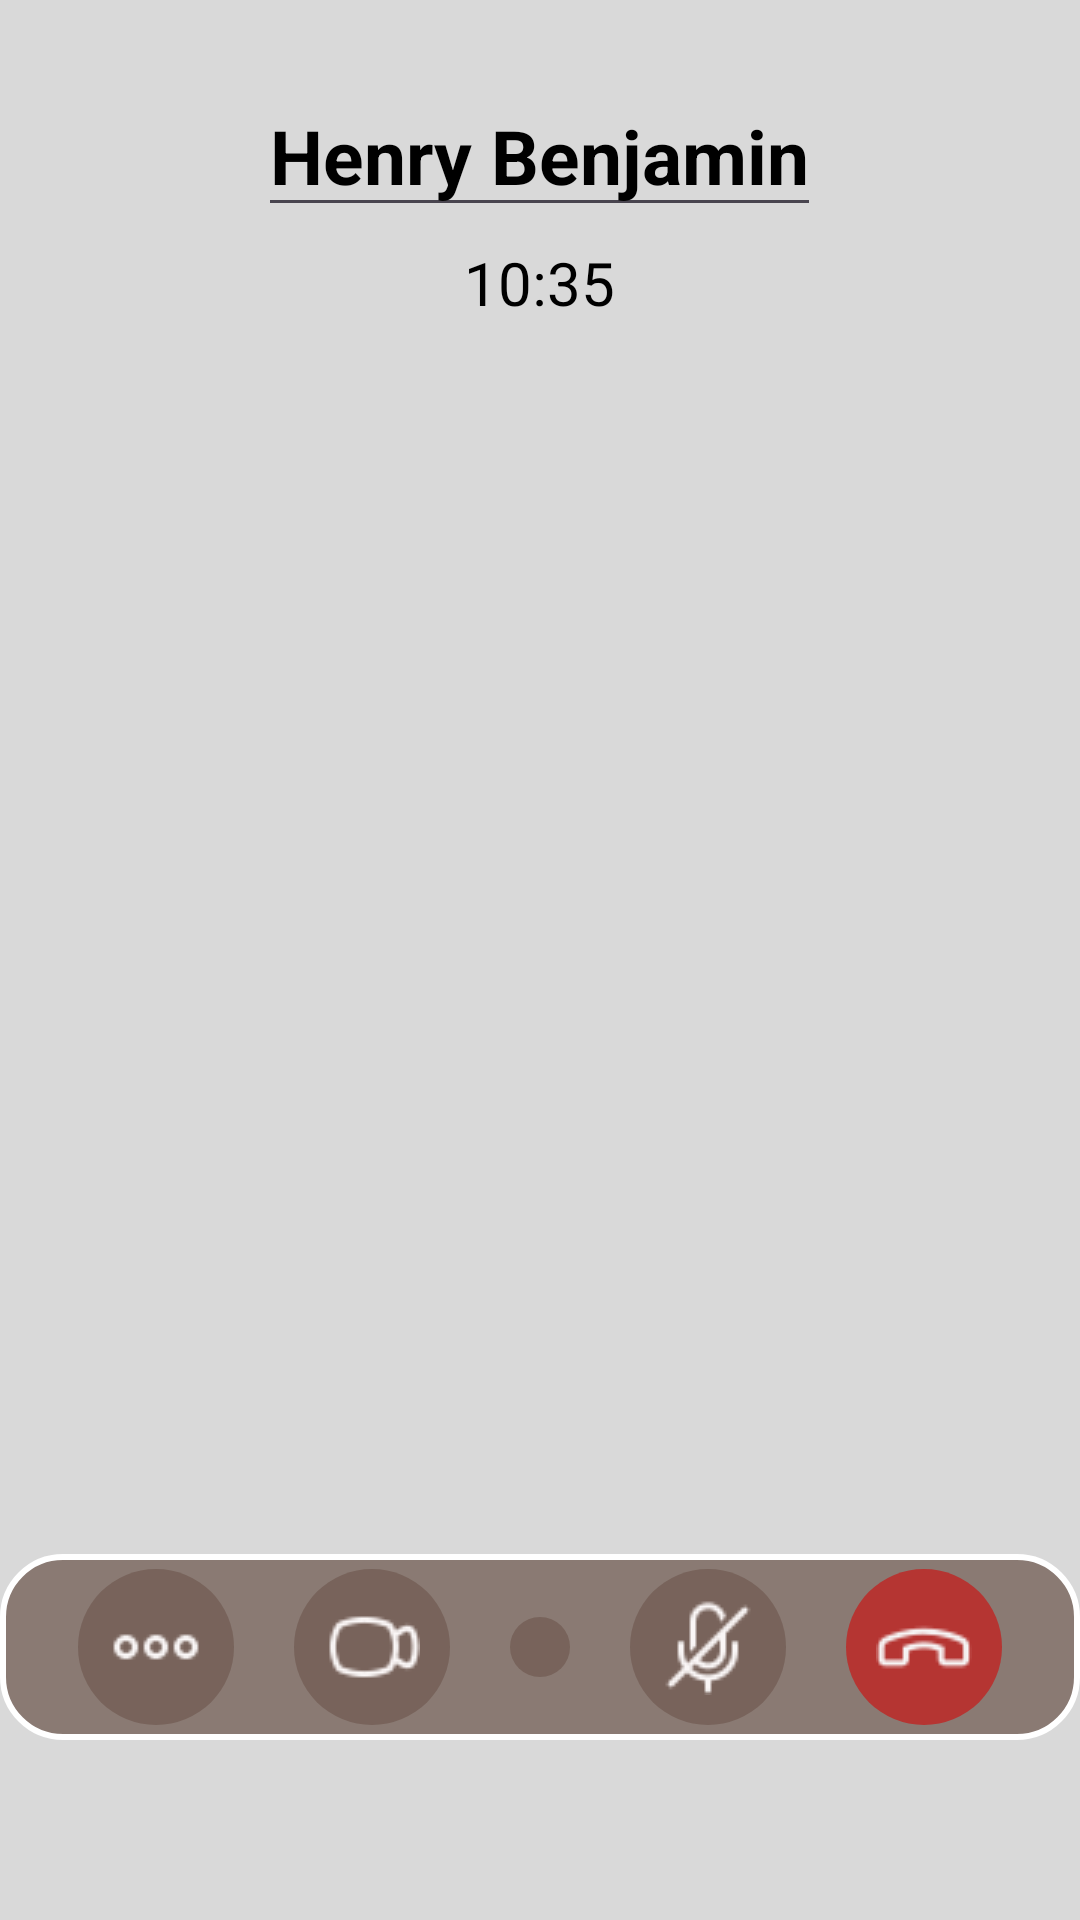

Point at icon controls on the screen. Image size 1080x1920, points as [x,y].
dots: [156,1647]
endcall: [924,1647]
mic: [708,1647]
vidcall: [372,1647]
